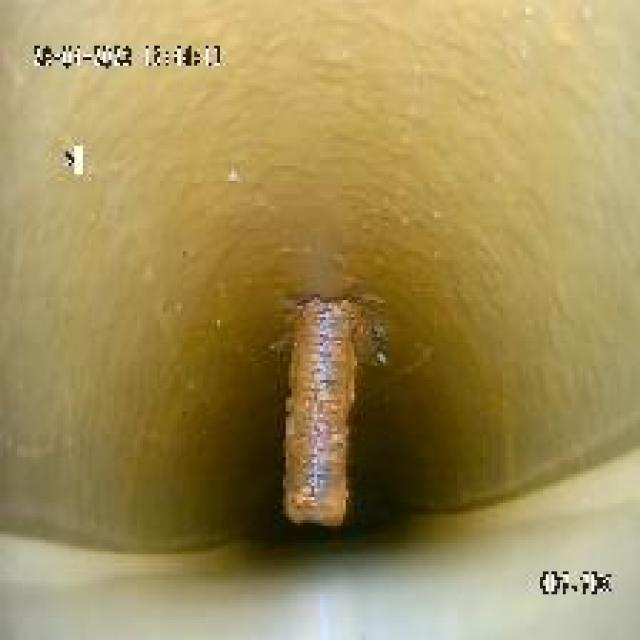ferrule: (266, 286, 371, 534)
